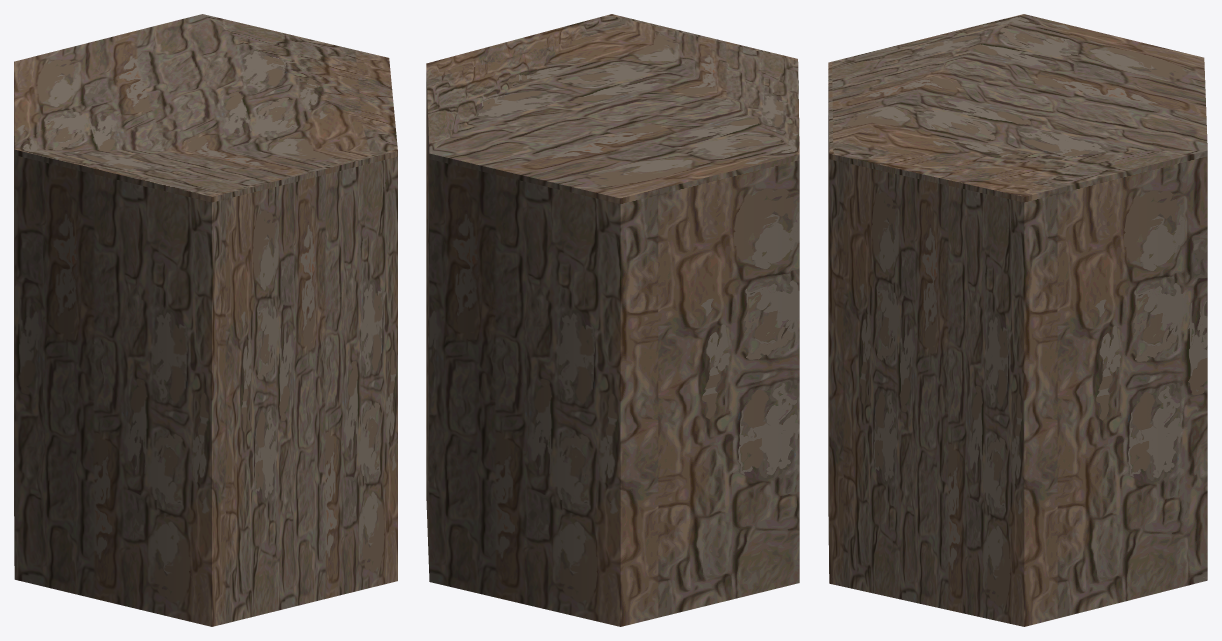
3 views of the same model, side by side, from view 1: azimuth 30°, elevation 25°; view 2: azimuth 150°, elevation 25°; view 3: azimuth 270°, elevation 25° (orthographic).
Parts seen in each view (by area): view 1: Box004; view 2: Box004; view 3: Box004.
Part boxes in pixels (x1,y1,x2,y2): Box004: [14, 14, 397, 626]; Box004: [426, 14, 799, 626]; Box004: [828, 14, 1207, 626].
Size of the model in its own units: 8.02 by 8.79 by 7.03.
1 material, 1 textured.
